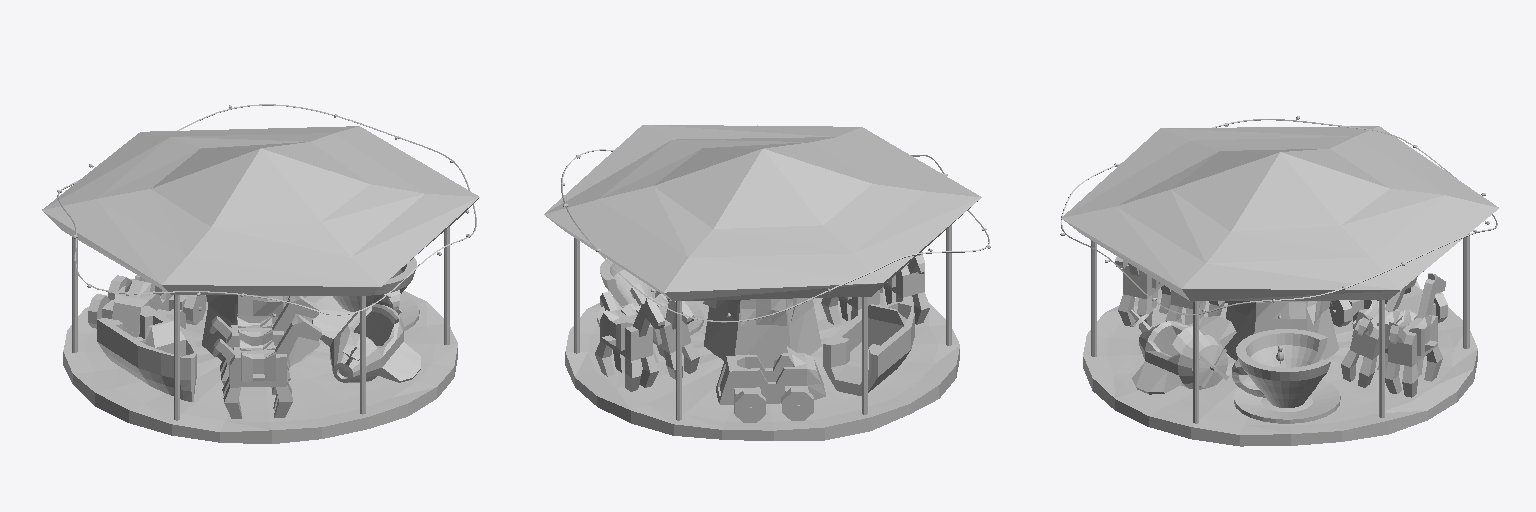
Rendered from Carrossel.obj.
3 views of the same model, side by side, from view 1: azimuth 30°, elevation 25°; view 2: azimuth 150°, elevation 25°; view 3: azimuth 270°, elevation 25° (orthographic).
Visible parts, largest first — view 1: techocale.003_Circle.017, basecale.003_Circle.016, avion.003_Cylinder.004, lancha.003_Plane.015, caballo4.003_Cube.020, auto.003_Cube.021, soportescale.003_Cylinder.003, caballo3.003_Cube.019, centrocale.003_Circle.015, taza.003_Circle.018, BezierCircle.003, Artboard_1_copy_2illus.005 (+2 smaller); view 2: techocale.003_Circle.017, basecale.003_Circle.016, auto.003_Cube.021, lancha.003_Plane.015, caballo1.003_Cube.003, centrocale.003_Circle.015, soportescale.003_Cylinder.003, caballo2.003_Cube.002, caballo4.003_Cube.020, taza.003_Circle.018, Artboard_1_copy_3illus.003_Artboard_1_copy_3illus.004, caballo3.003_Cube.019 (+1 smaller); view 3: techocale.003_Circle.017, basecale.003_Circle.016, avion.003_Cylinder.004, taza.003_Circle.018, caballo1.003_Cube.003, soportescale.003_Cylinder.003, caballo2.003_Cube.002, plato.003_Circle.019, centrocale.003_Circle.015, caballo4.003_Cube.020, auto.003_Cube.021, BezierCircle.003 (+2 smaller).
Part boxes in pixels (x1,y1,x2,y2): techocale.003_Circle.017: (42, 126, 479, 295); basecale.003_Circle.016: (63, 291, 457, 443); avion.003_Cylinder.004: (312, 303, 420, 382); lancha.003_Plane.015: (97, 306, 196, 401); caballo4.003_Cube.020: (212, 314, 321, 418); auto.003_Cube.021: (88, 275, 205, 337); soportescale.003_Cylinder.003: (72, 227, 449, 420); caballo3.003_Cube.019: (209, 296, 318, 394); centrocale.003_Circle.015: (202, 295, 319, 367); taza.003_Circle.018: (333, 258, 416, 311); BezierCircle.003: (57, 104, 476, 315); Artboard_1_copy_2illus.005: (237, 295, 282, 316); techocale.003_Circle.017: (544, 125, 981, 300); basecale.003_Circle.016: (565, 288, 959, 440); auto.003_Cube.021: (716, 346, 825, 422); lancha.003_Plane.015: (823, 301, 914, 395); caballo1.003_Cube.003: (595, 291, 664, 391); centrocale.003_Circle.015: (704, 299, 821, 367); soportescale.003_Cylinder.003: (574, 225, 951, 420); caballo2.003_Cube.002: (630, 284, 699, 379); caballo4.003_Cube.020: (880, 252, 930, 324); taza.003_Circle.018: (600, 259, 669, 307); Artboard_1_copy_3illus.003_Artboard_1_copy_3illus.004: (741, 299, 786, 325); caballo3.003_Cube.019: (821, 290, 879, 324); techocale.003_Circle.017: (1061, 126, 1498, 301); basecale.003_Circle.016: (1083, 288, 1477, 446); avion.003_Cylinder.004: (1129, 310, 1236, 394); taza.003_Circle.018: (1232, 329, 1330, 407); caballo1.003_Cube.003: (1385, 273, 1445, 397); soportescale.003_Cylinder.003: (1091, 233, 1469, 423); caballo2.003_Cube.002: (1341, 277, 1416, 387); plato.003_Circle.019: (1234, 380, 1340, 423); centrocale.003_Circle.015: (1224, 301, 1338, 360); caballo4.003_Cube.020: (1115, 256, 1170, 328); auto.003_Cube.021: (1329, 280, 1447, 328); BezierCircle.003: (1061, 119, 1497, 314).
Size of the model in its own units: 13.69 by 7.12 by 13.33.